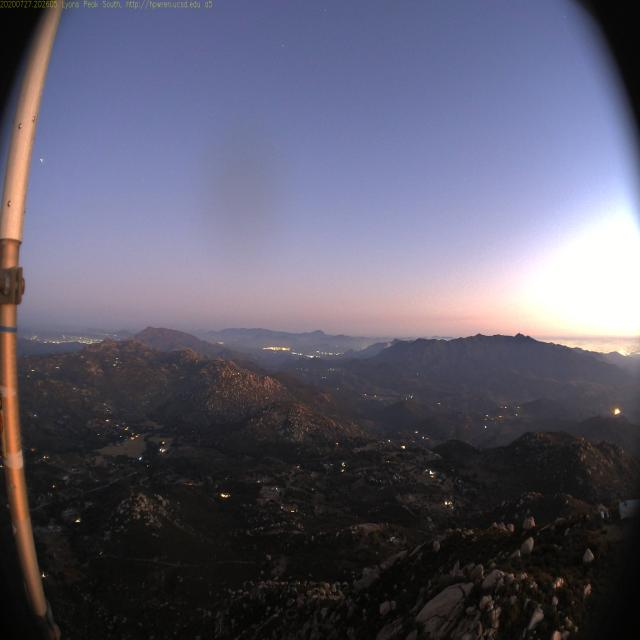smoke: (380, 339, 395, 352)
